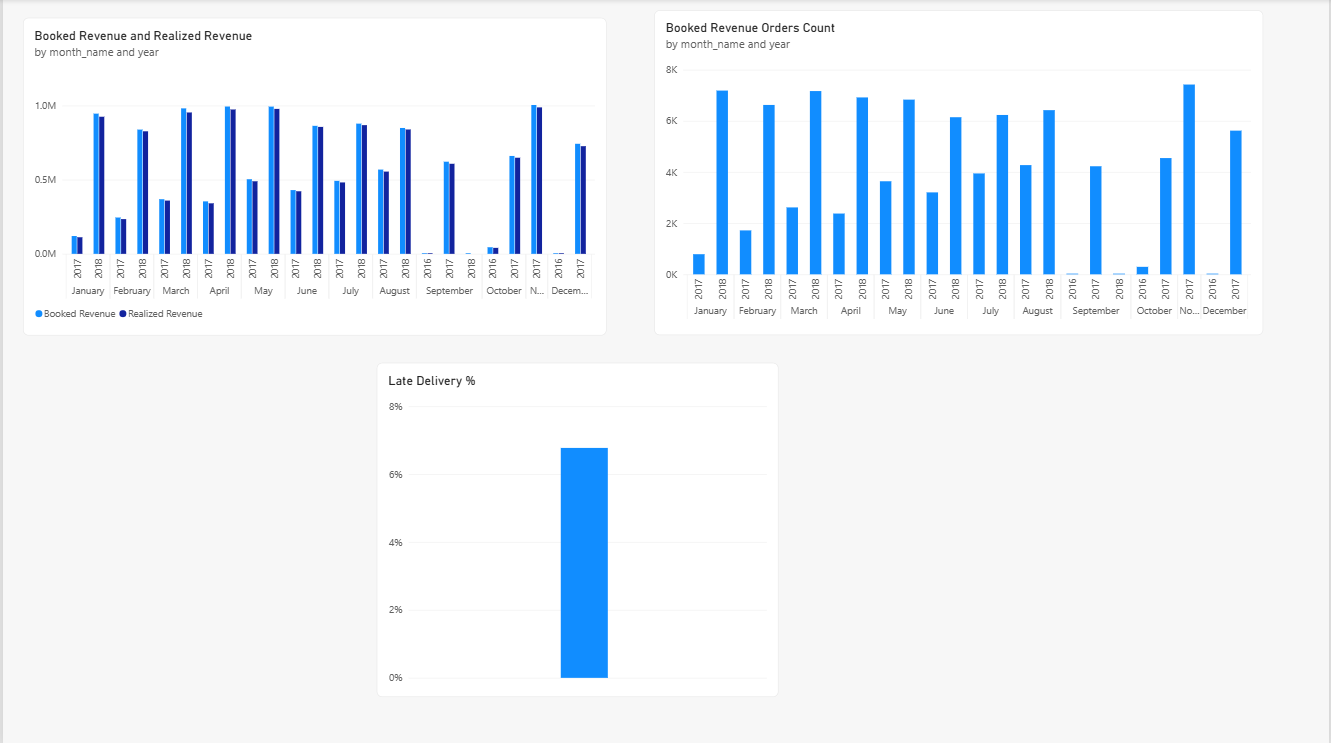

This screenshot's page, from the dashboard's own definition file:
{"tool":"powerbi","page":{"name":"Page 1","canvas":[1920,1080],"ordinal":0},"visuals":[{"type":"clusteredColumnChart","fields":{"Category":["dim_date.month_name","dim_date.year"],"Y":["fact_order_items.SUMX MEASURE","fact_order_items.Realized Revenue"]},"box":[28.8,26.8,845,460],"z":0},{"type":"clusteredColumnChart","fields":{"Category":["dim_date.month_name","dim_date.year"],"Y":["dim_customers.Booked Revenue Orders Count"]},"box":[942.8,16.3,881.3,470.5],"z":1000},{"type":"clusteredColumnChart","fields":{"Y":["dim_customers.Late Delivery %"]},"box":[541.1,526.6,581.7,484],"z":4000}]}

Visuals, with their boxes in screenshot pixels (x1, y1, x2, y2), scaled from the page's 1920x1080 canvas onto the 1331x743 screenshot:
clusteredColumnChart - dim_date.month_name x dim_date.year: (20,18,606,335)
clusteredColumnChart - dim_date.month_name x dim_date.year: (654,11,1265,335)
clusteredColumnChart - dim_customers.Late Delivery %: (375,362,778,695)
